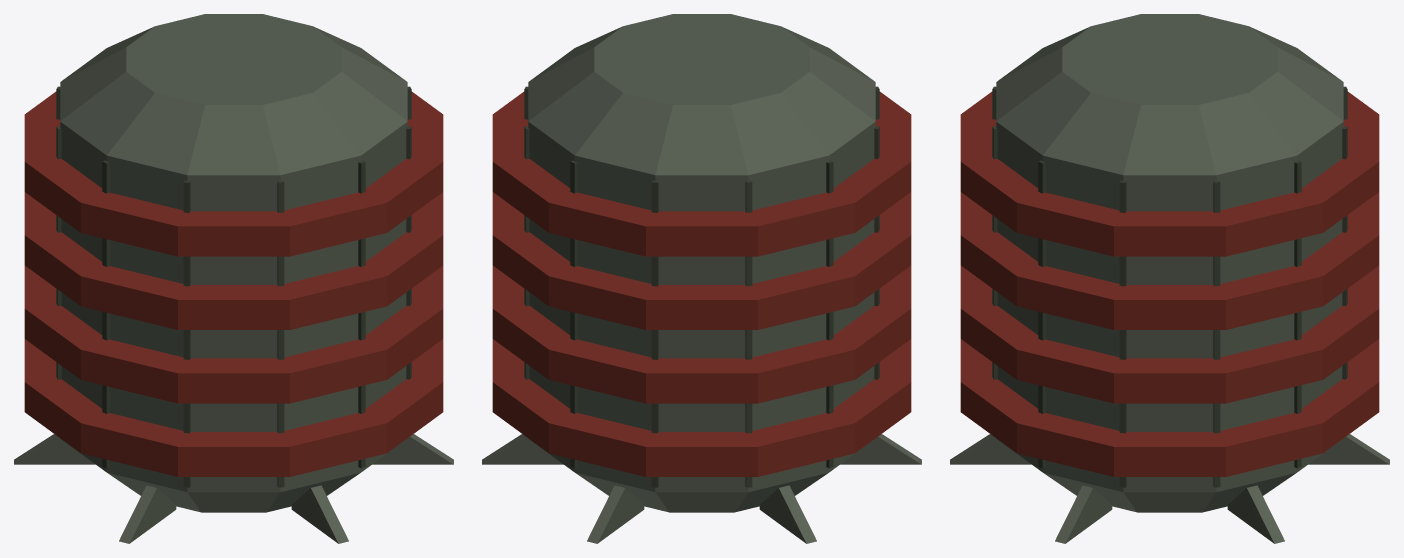
File: s600_vessel.obj
3 renders of one model, left to right at view 1: azimuth 30°, elevation 25°; view 2: azimuth 150°, elevation 25°; view 3: azimuth 270°, elevation 25°, orthographic.
Visible parts, largest first — view 1: s600_vessel; view 2: s600_vessel; view 3: s600_vessel.
Boxes of the visible parts, x1,y1,x2,y2 form: s600_vessel: [14, 14, 453, 543]; s600_vessel: [482, 14, 921, 543]; s600_vessel: [950, 14, 1389, 543].
Bounding box in the file's own units: 1.72 × 1.82 × 1.81.
